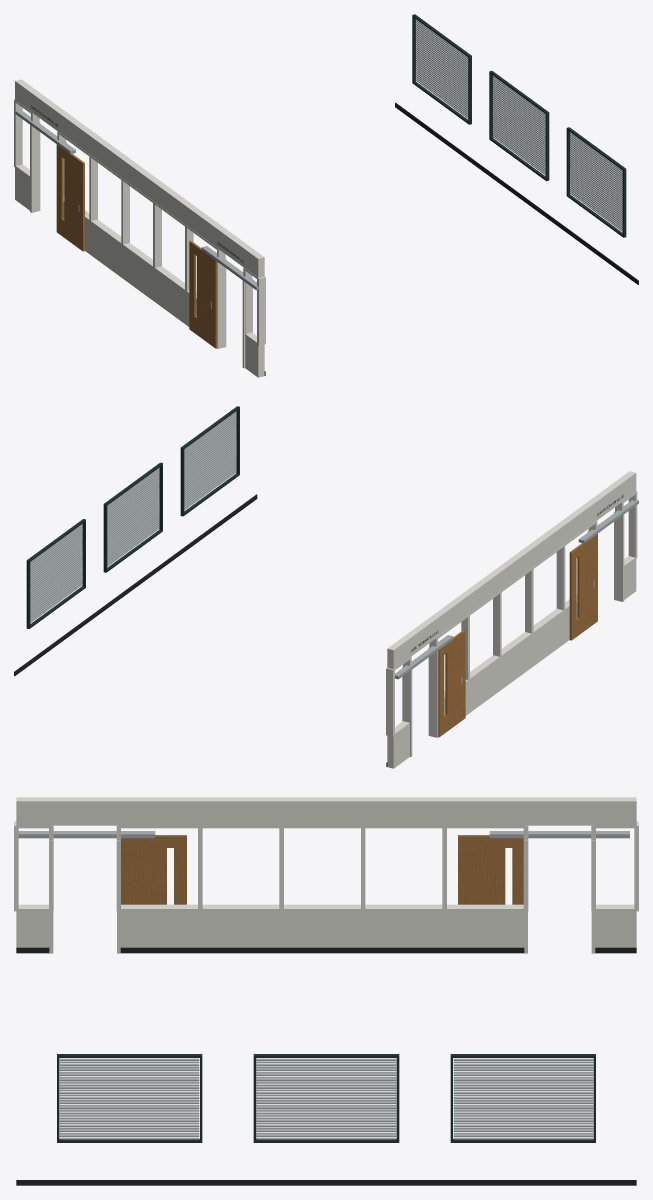
The model's file is SM_F03_GlazingFrames.fbx.
3 renders of one model, top to bottom at view 1: azimuth 30°, elevation 25°; view 2: azimuth 150°, elevation 25°; view 3: azimuth 270°, elevation 25°, orthographic. The views are drawn at different scales.
Parts seen in each view (by area): view 1: SM_F03_GlazingFrames; view 2: SM_F03_GlazingFrames; view 3: SM_F03_GlazingFrames.
Part boxes in pixels (x1,y1,x2,y2): SM_F03_GlazingFrames: (14, 14, 638, 377); SM_F03_GlazingFrames: (14, 406, 638, 768); SM_F03_GlazingFrames: (14, 797, 638, 1185).
Bounding box in the file's own units: 1059 × 1158 × 310.
Materials: 5 (1 with a texture image).
